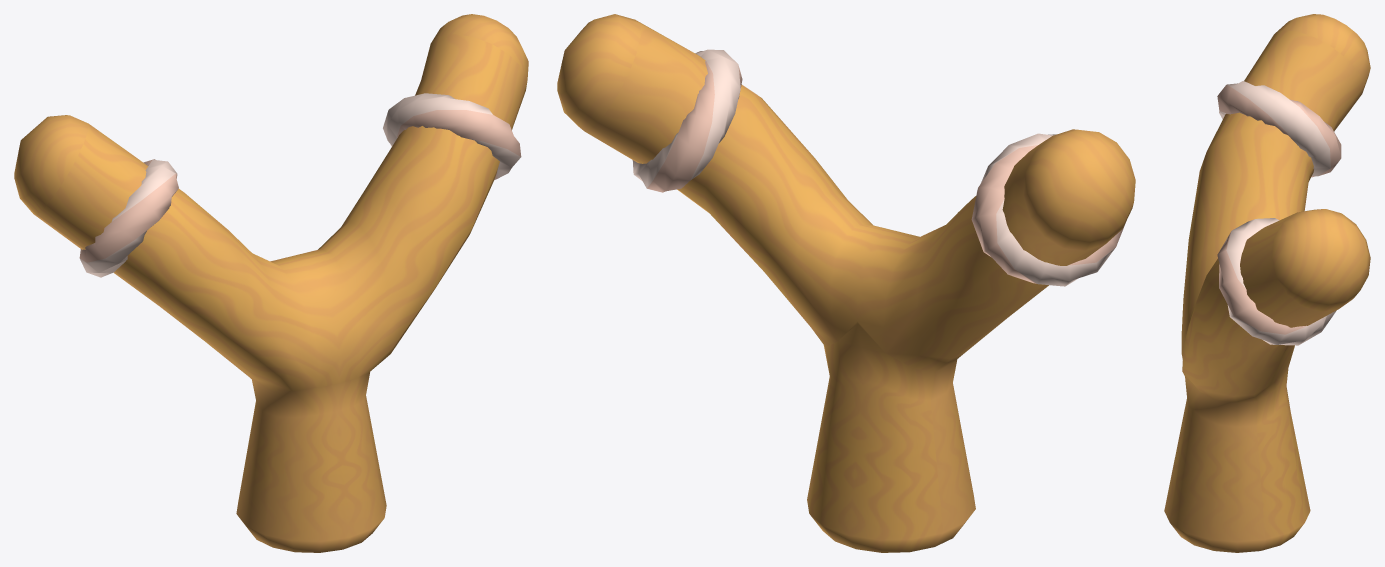
File: Slingshot.fbx
The picture shows the model from 3 angles, left to right: view 1: azimuth 30°, elevation 25°; view 2: azimuth 150°, elevation 25°; view 3: azimuth 270°, elevation 25°; orthographic projection. The views are drawn at different scales.
Visible parts, largest first — view 1: Slingshot, Rope1; view 2: Slingshot, Rope1; view 3: Slingshot, Rope1.
Part boxes in pixels (x1=…): Slingshot: x1=14, y1=14, x2=528, y2=552; Rope1: x1=79, y1=93, x2=521, y2=277; Slingshot: x1=557, y1=14, x2=1135, y2=552; Rope1: x1=632, y1=49, x2=1125, y2=286; Slingshot: x1=1164, y1=14, x2=1370, y2=552; Rope1: x1=1217, y1=81, x2=1341, y2=345.
Size of the model in its own units: 484 by 397 by 180.
